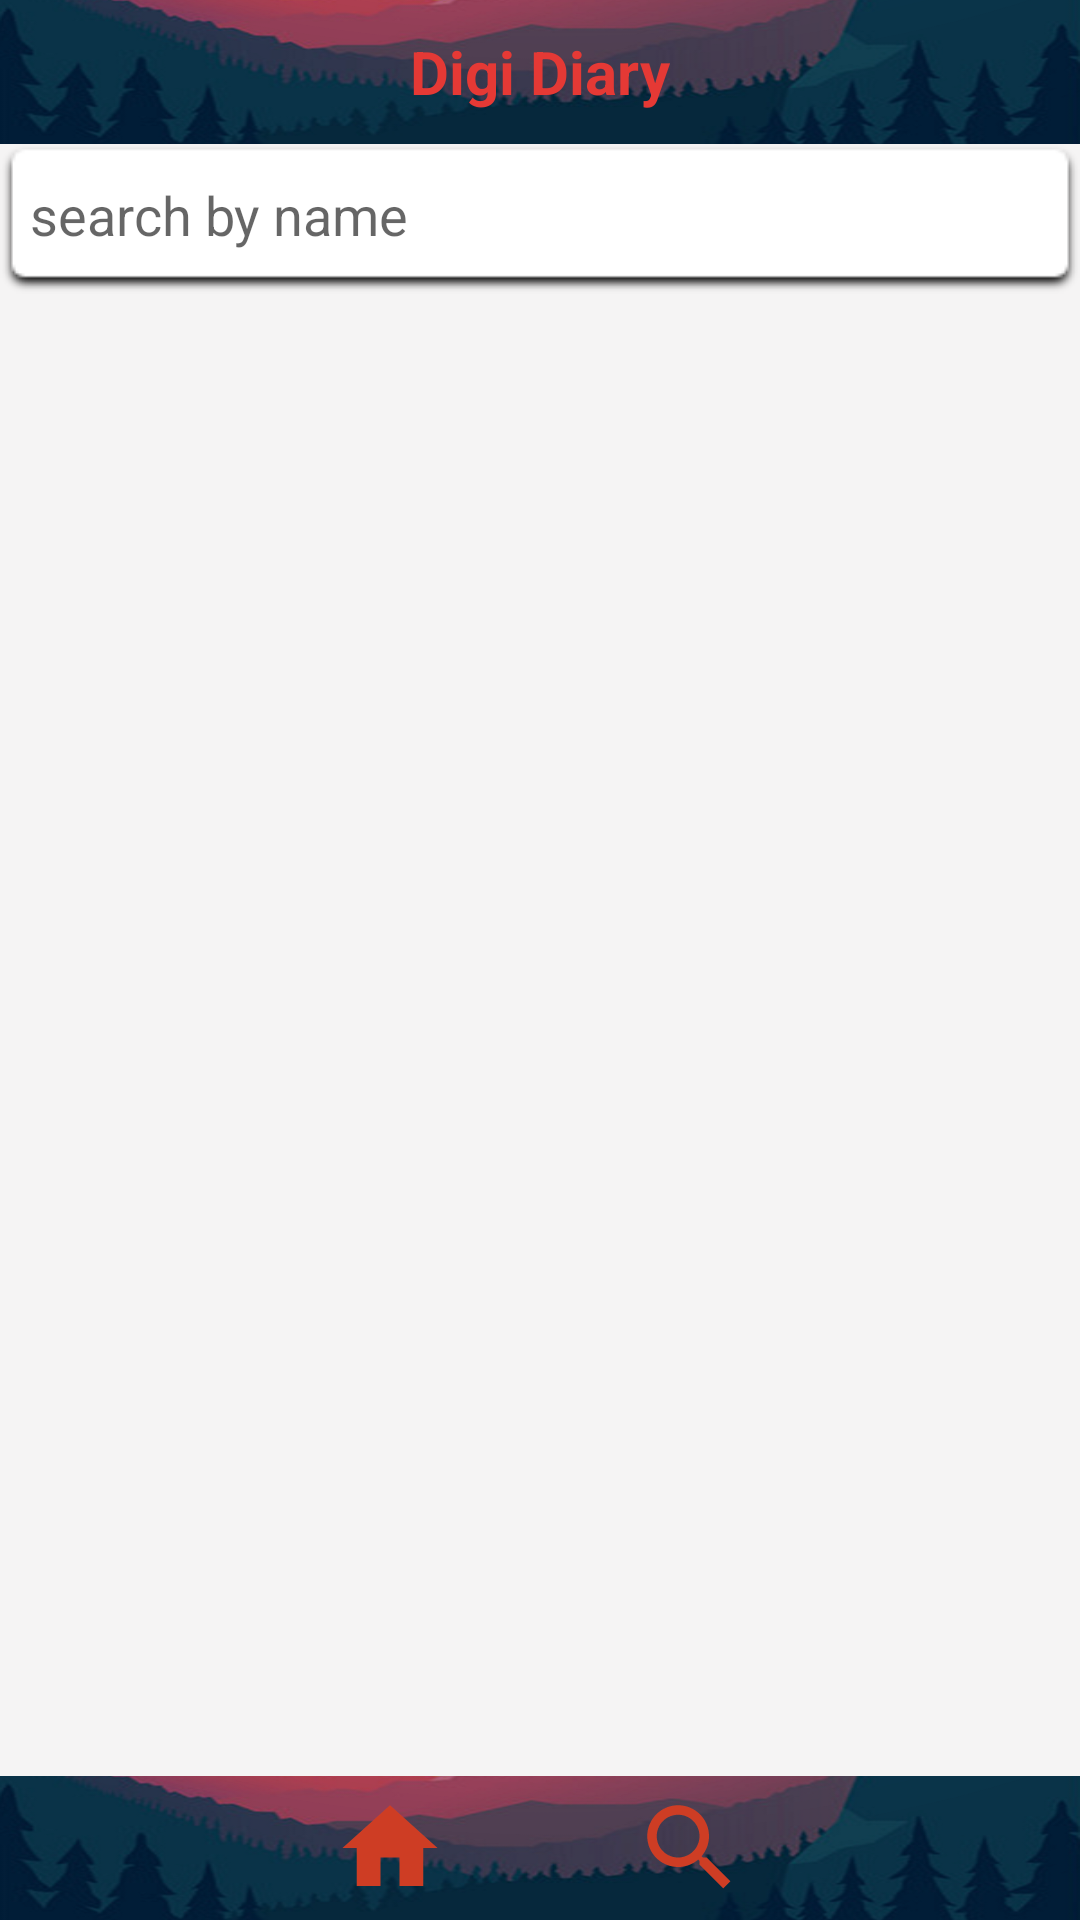

Screen size 1080 × 1920. Icon name, then its center in pixels as (x=x, y=y):
home: (x=390, y=1848)
search: (x=690, y=1848)
